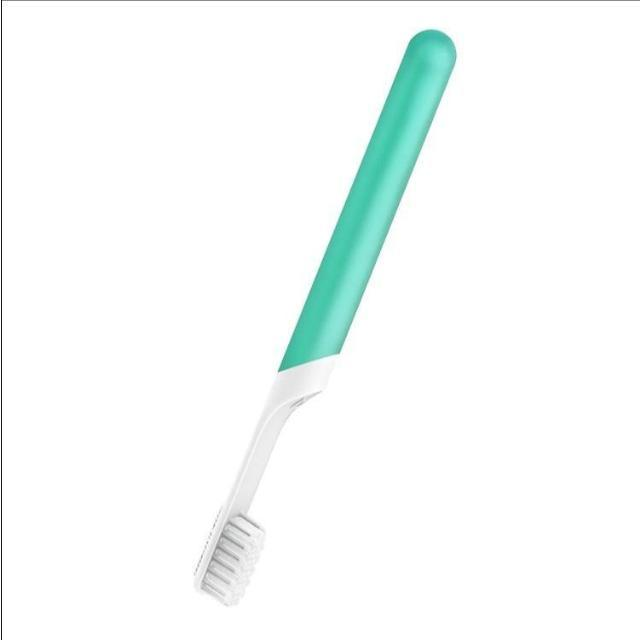toothbrush: (118, 15, 496, 613)
